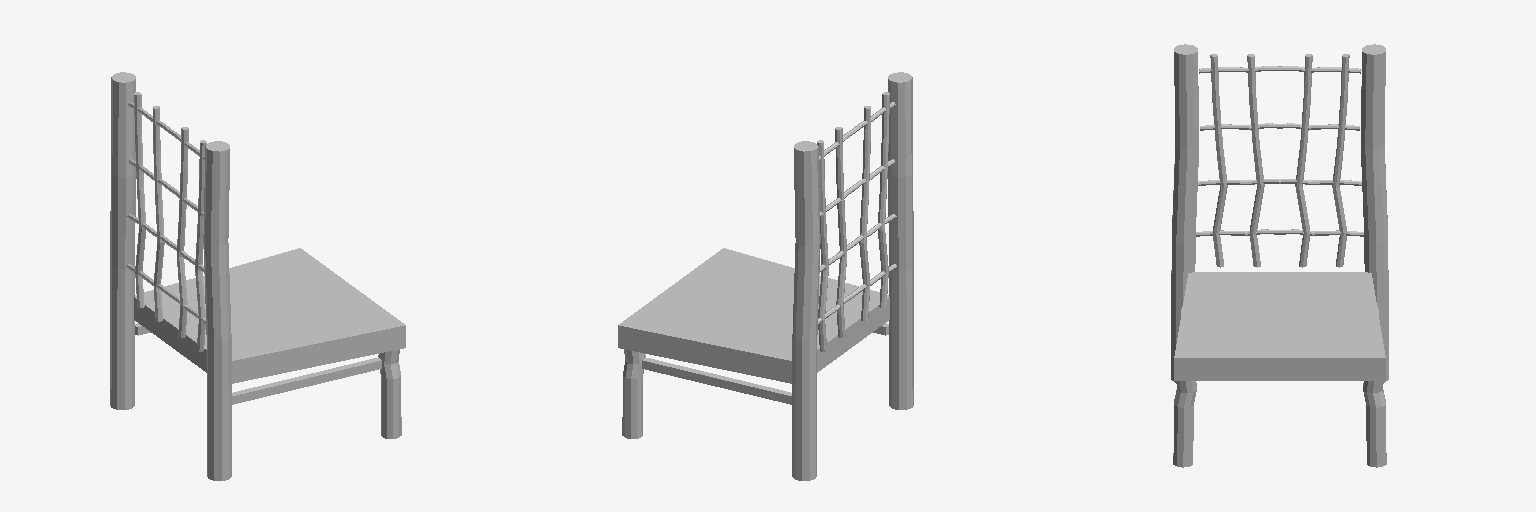
The model's file is Silla.obj.
The picture shows the model from 3 angles: view 1: azimuth 30°, elevation 25°; view 2: azimuth 150°, elevation 25°; view 3: azimuth 270°, elevation 25°; orthographic projection.
Parts seen in each view (by area): view 1: Silla_Silla_Plane; view 2: Silla_Silla_Plane; view 3: Silla_Silla_Plane.
Part boxes in pixels (x1,y1,x2,y2): Silla_Silla_Plane: (110, 72, 405, 480); Silla_Silla_Plane: (618, 72, 913, 480); Silla_Silla_Plane: (1171, 44, 1388, 467).
Size of the model in its own units: 1.28 by 2.07 by 1.24.